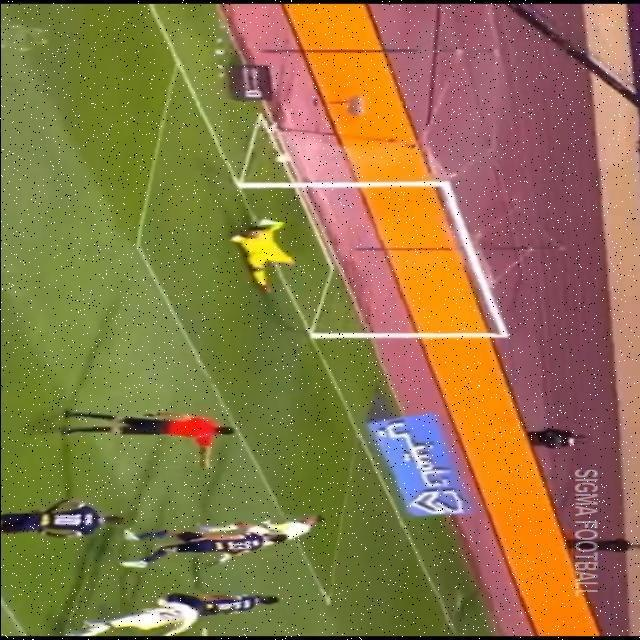ball: (268, 151, 300, 166)
goalkeeper: (225, 212, 309, 297)
player: (0, 498, 144, 550), (114, 529, 292, 570), (60, 601, 222, 640), (206, 507, 352, 539), (153, 590, 292, 618)
referee: (50, 408, 238, 473)
